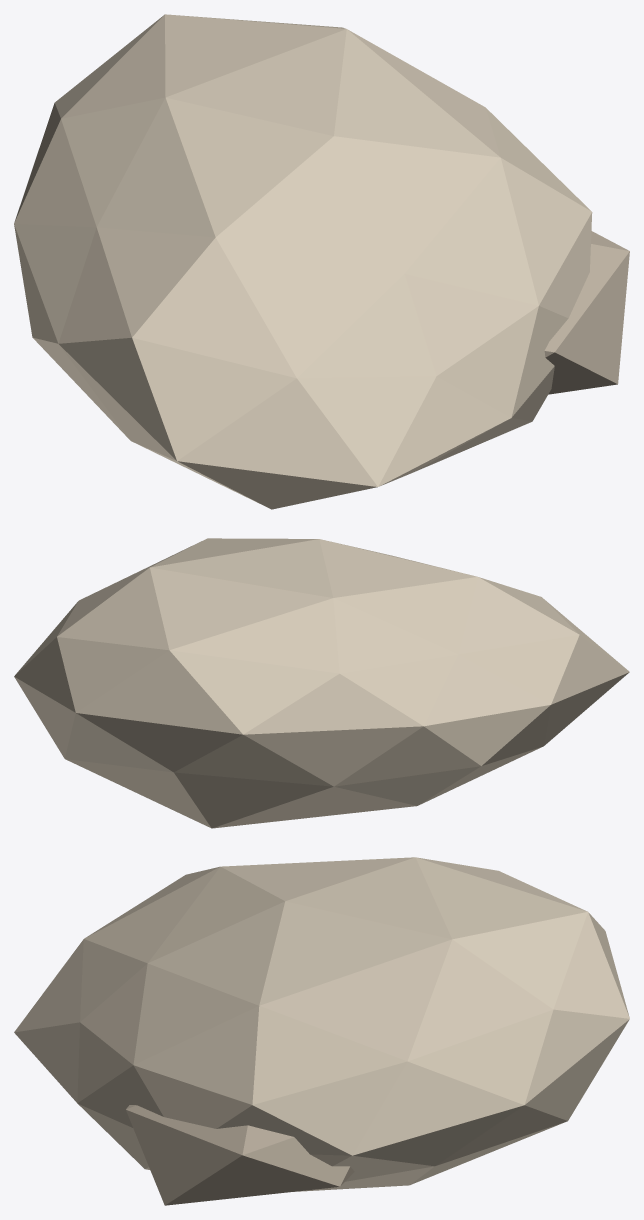
File: campo_rock_granite_2.glb
3 views of the same model, one above another, from view 1: azimuth 30°, elevation 25°; view 2: azimuth 150°, elevation 25°; view 3: azimuth 270°, elevation 25° (orthographic). The views are drawn at different scales.
Visible parts, largest first — view 1: campo_rock_granite_2.glb; view 2: campo_rock_granite_2.glb; view 3: campo_rock_granite_2.glb.
Boxes of the visible parts, box(x1,y1,x2,y2) form: campo_rock_granite_2.glb: box(14, 14, 629, 509); campo_rock_granite_2.glb: box(14, 538, 629, 828); campo_rock_granite_2.glb: box(14, 857, 629, 1205).
Bounding box in the file's own units: 1.85 × 0.9811 × 2.09.
